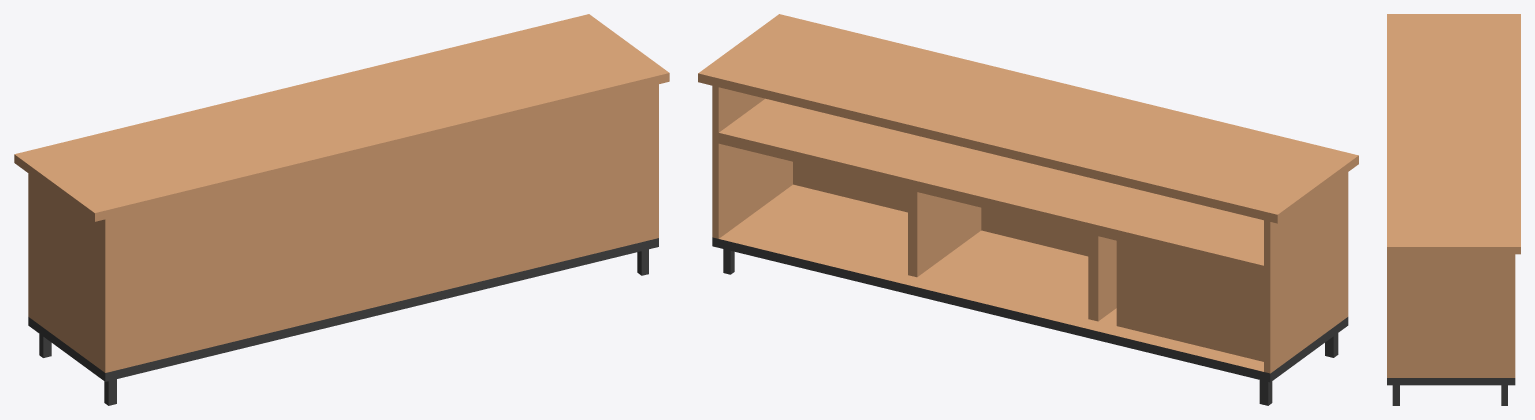
Rendered from TV TABLE .fbx.
3 renders of one model, left to right at view 1: azimuth 30°, elevation 25°; view 2: azimuth 150°, elevation 25°; view 3: azimuth 270°, elevation 25°, orthographic. The views are drawn at different scales.
Visible parts, largest first — view 1: TV TABLE; view 2: TV TABLE; view 3: TV TABLE.
Boxes of the visible parts, <box> form: TV TABLE: <box>14,14,669,405</box>; TV TABLE: <box>698,14,1358,405</box>; TV TABLE: <box>1387,14,1520,405</box>.
Bounding box in the file's own units: 286 × 94.93 × 69.45.
